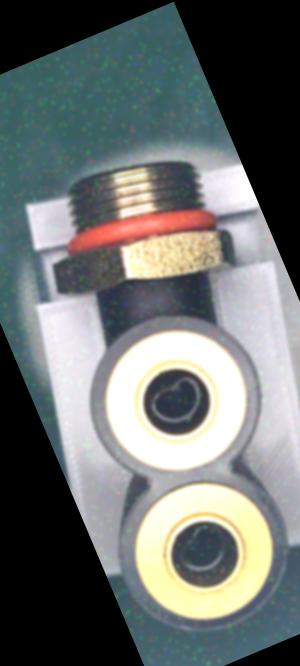off-centered: (160, 512, 239, 584), (135, 365, 215, 435)
